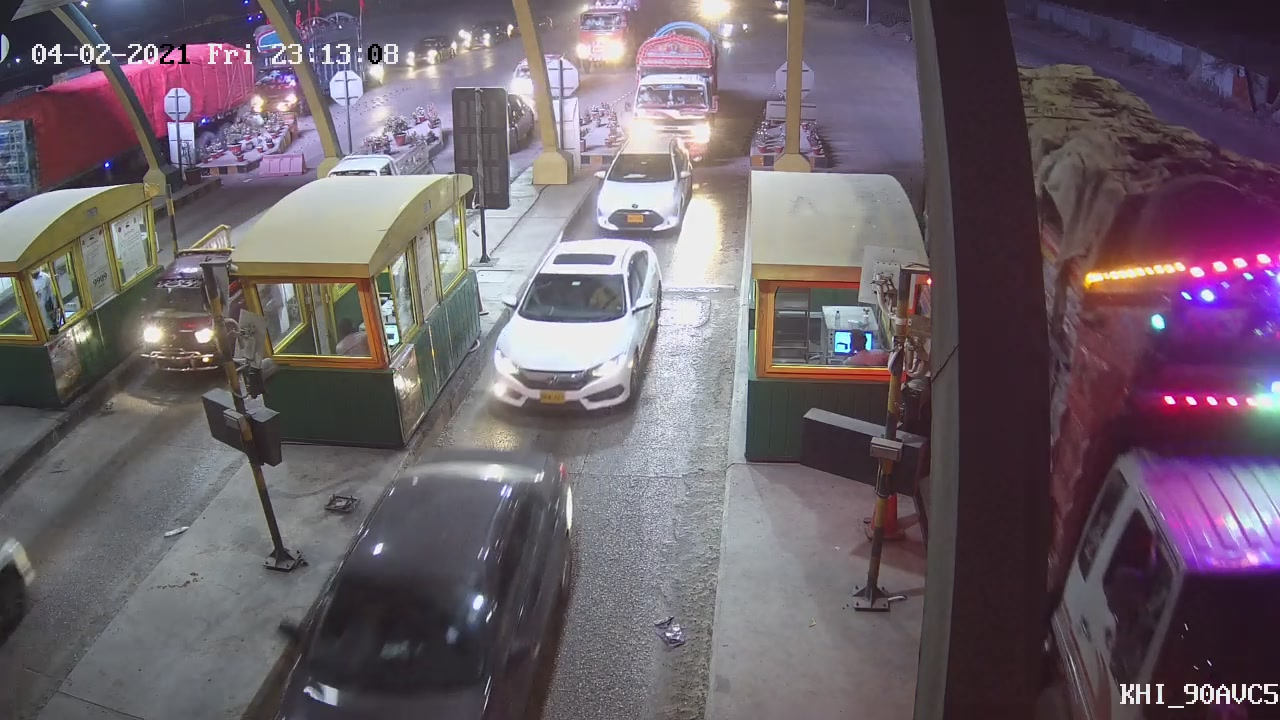F1: (488, 238, 668, 424), (584, 128, 699, 234)
